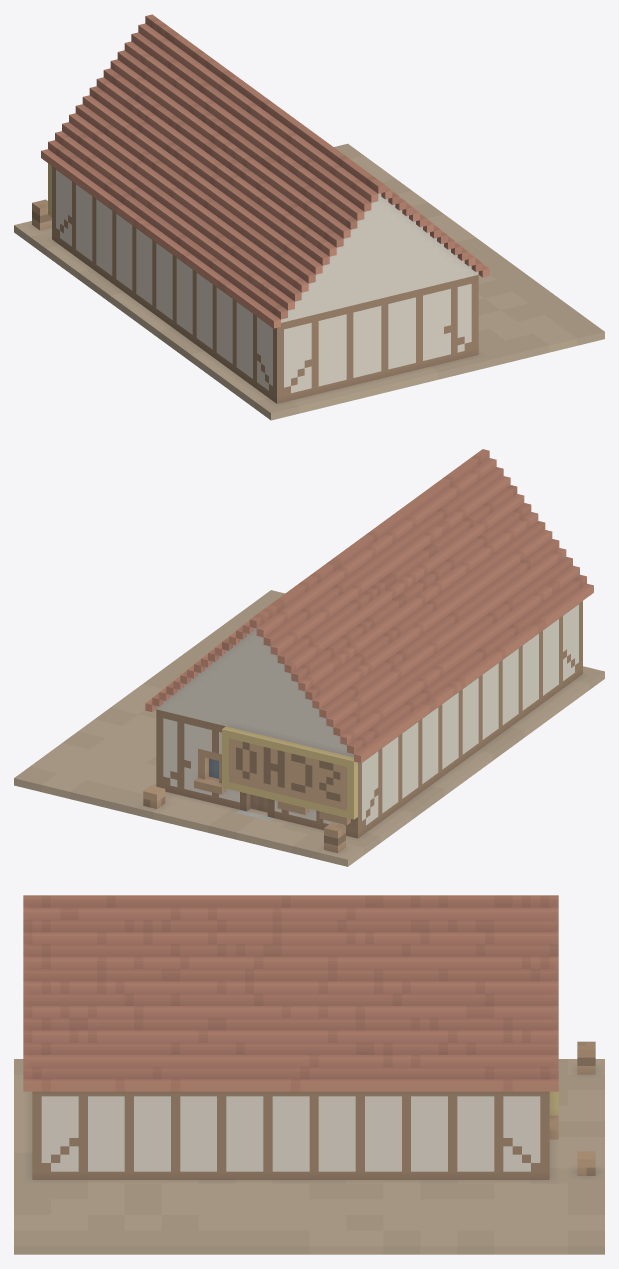
The model's file is school.glb.
The picture shows the model from 3 angles, top to bottom: view 1: azimuth 30°, elevation 25°; view 2: azimuth 150°, elevation 25°; view 3: azimuth 270°, elevation 25°; orthographic projection. The views are drawn at different scales.
Parts seen in each view (by area): view 1: school; view 2: school; view 3: school.
Boxes of the visible parts, left/top/right/bottom form: school: left=14, top=14, right=604, bottom=420; school: left=14, top=449, right=604, bottom=866; school: left=14, top=895, right=604, bottom=1254.
Bounding box in the file's own units: 6 × 3.5 × 8.
